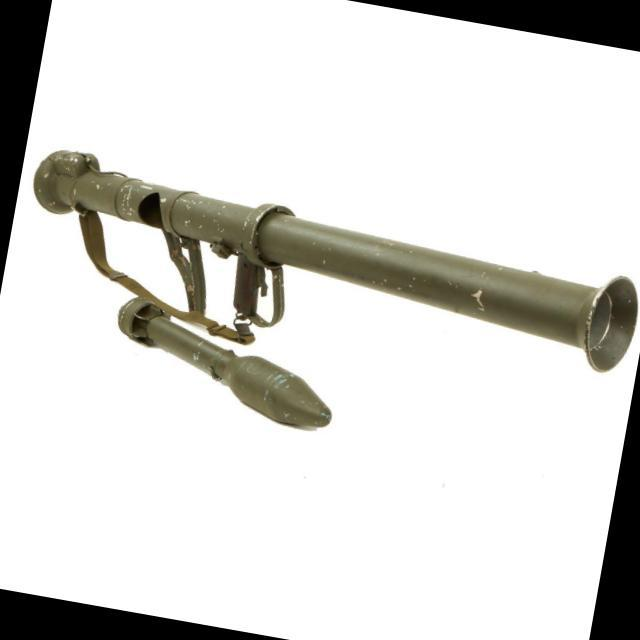rocket: (2, 145, 640, 467)
